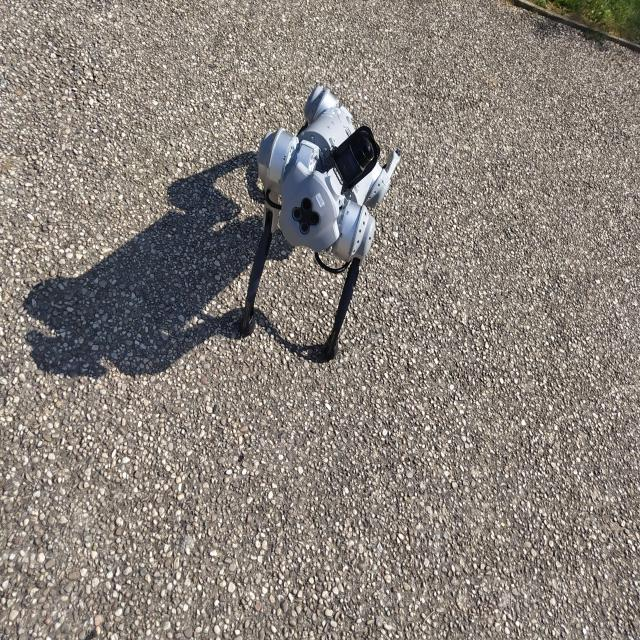unitree-go1-robot: (224, 74, 404, 384)
